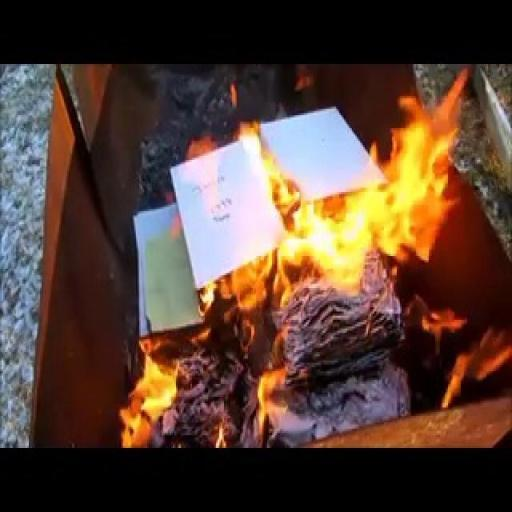smoke: (126, 321, 229, 434)
